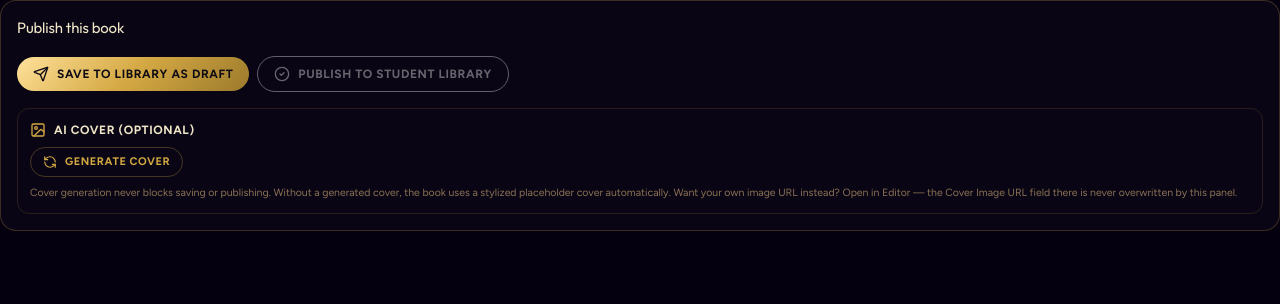
Test: cover failure is surfaced but never disables Save Draft / Publish actions
The image size is (1280, 304).
Click the button with test id "bf-generate-cover-btn": (107, 162) [30,146,183,177]
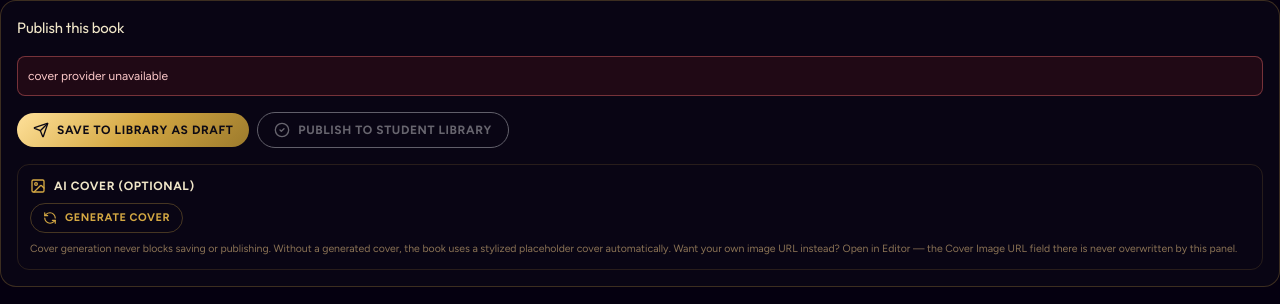
Expected: the button with test id "bf-save-draft-btn" is enabled, [17,112,249,146]
Result: the text "cover provider unavailable" is shown at [17,56,1263,96]
